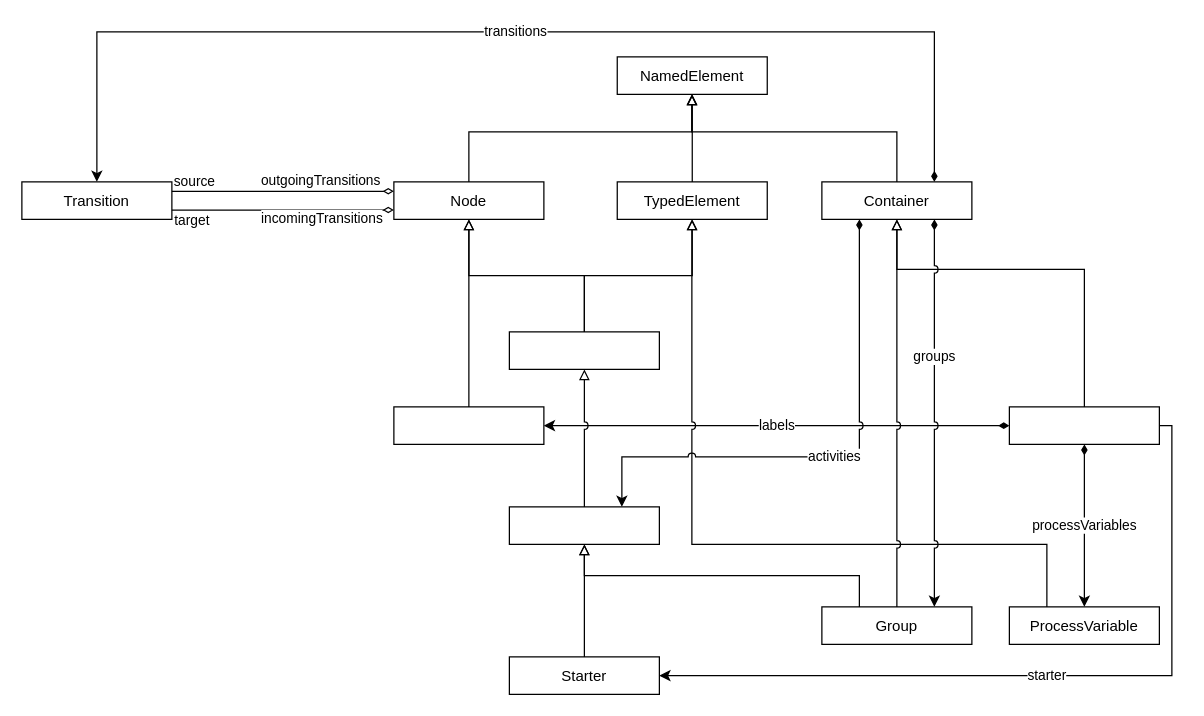
Some shapes in this 1204 by 716 pixel diagram are drawn without their labels. Here are the shapes that lost their labels. From the top down, the box of each, then its label:
(508, 331, 659, 369): TypedNode
(393, 406, 544, 444): Label
(1008, 406, 1159, 444): ProcessDefinition
(508, 506, 659, 544): Activity
